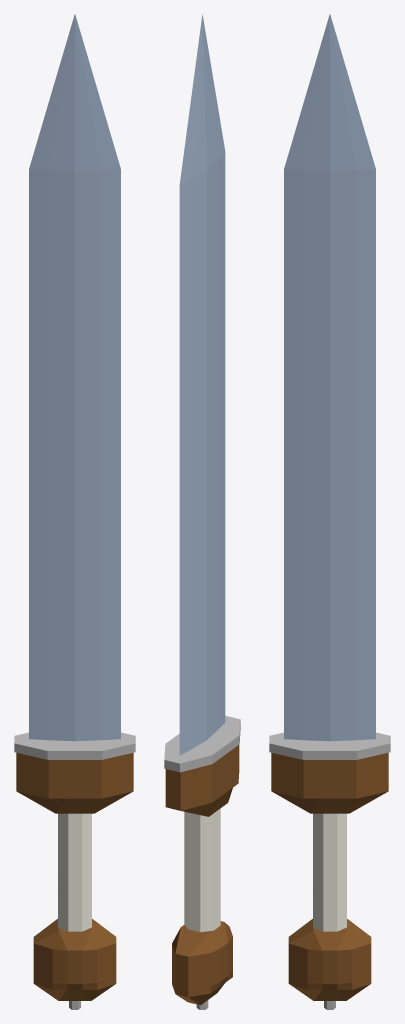
File: gladius_MK2.fbx
3 views of the same model, side by side, from view 1: azimuth 90°, elevation 25°; view 2: azimuth 150°, elevation 25°; view 3: azimuth 270°, elevation 25° (orthographic).
Visible parts, largest first — view 1: Cylinder; view 2: Cylinder; view 3: Cylinder.
Boxes of the visible parts, <box> form: Cylinder: <box>14,14,135,1009</box>; Cylinder: <box>164,14,240,1009</box>; Cylinder: <box>269,14,390,1009</box>.
Bounding box in the file's own units: 206 × 4152 × 459.
